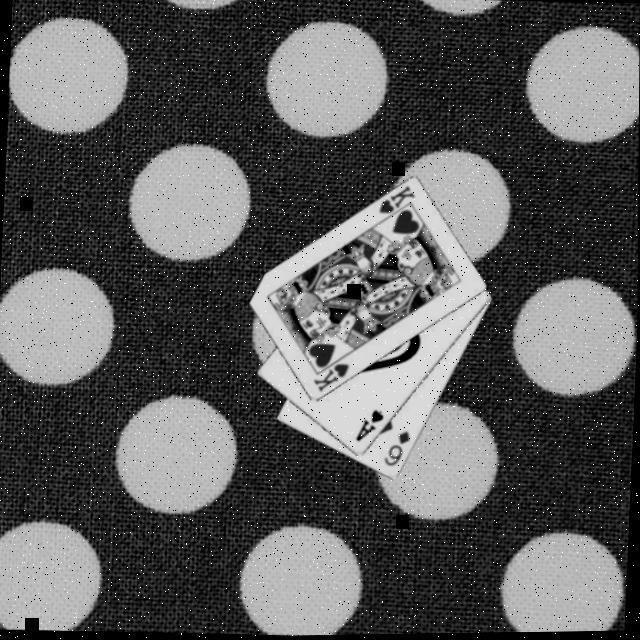6D: (382, 429, 414, 472)
AS: (353, 407, 387, 446)
KH: (310, 361, 353, 397), (376, 183, 419, 219)
